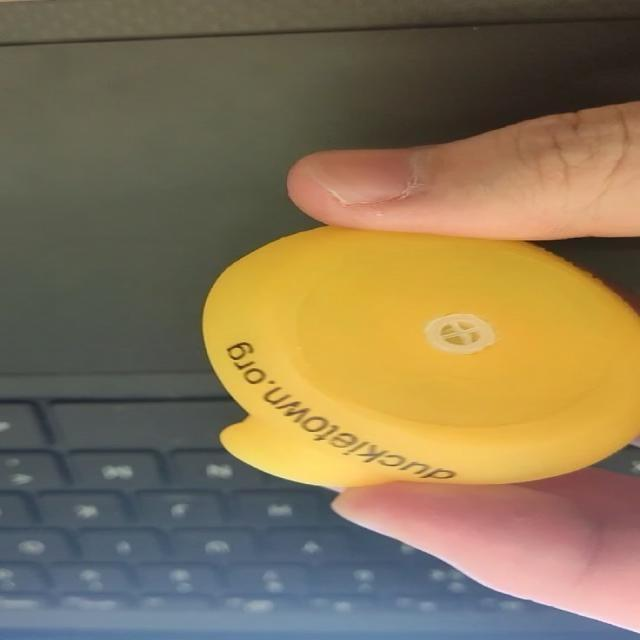rubber-duck: (202, 226, 638, 486)
